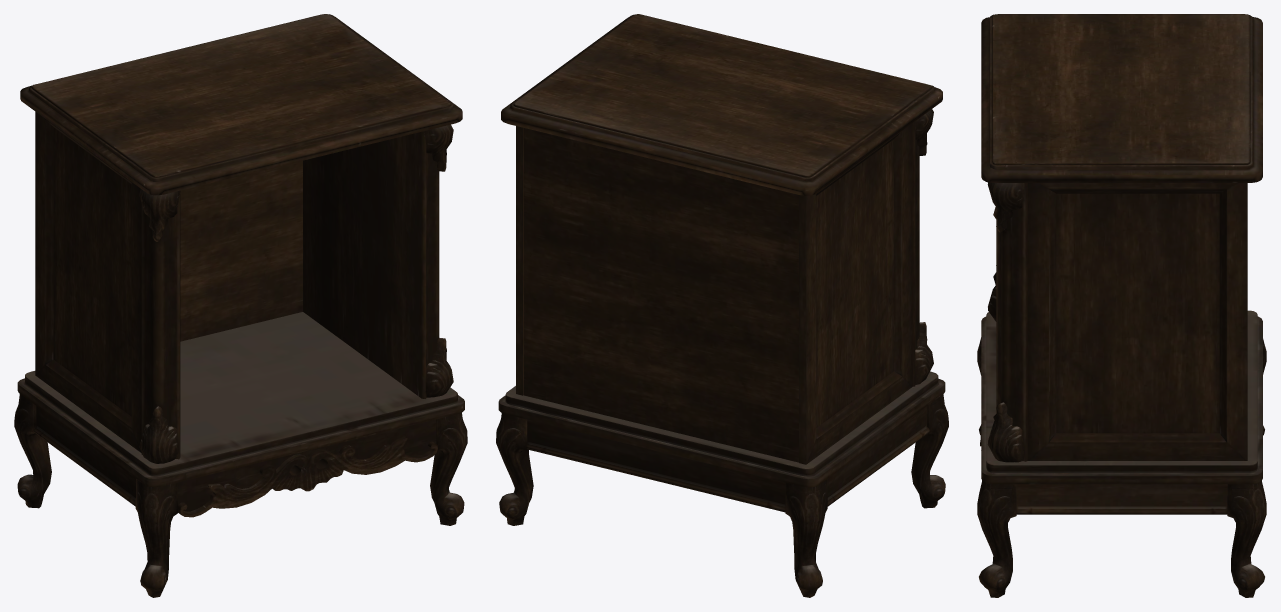
Rendered from victorian-nightstand.glb.
3 views of the same model, side by side, from view 1: azimuth 30°, elevation 25°; view 2: azimuth 150°, elevation 25°; view 3: azimuth 270°, elevation 25° (orthographic). The views are drawn at different scales.
Visible parts, largest first — view 1: ClassicNightstand_01; view 2: ClassicNightstand_01; view 3: ClassicNightstand_01.
Boxes of the visible parts, x1,y1,x2,y2 form: ClassicNightstand_01: [14, 14, 467, 597]; ClassicNightstand_01: [496, 14, 948, 597]; ClassicNightstand_01: [977, 14, 1266, 597].
Bounding box in the file's own units: 0.5678 × 0.7 × 0.4242.
Materials: 1 (1 with a texture image).
